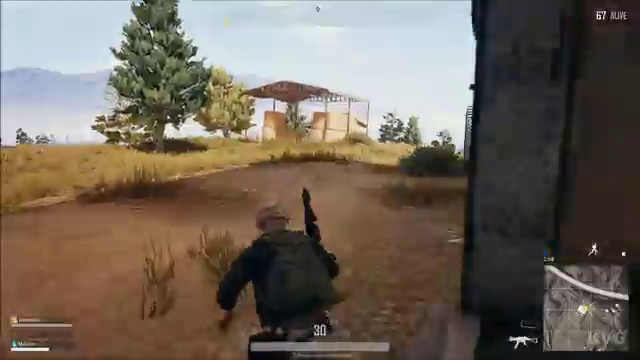Player: (184, 171, 379, 320)
